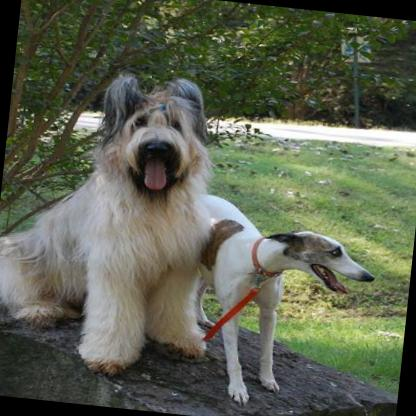briard: (0, 57, 246, 387)
